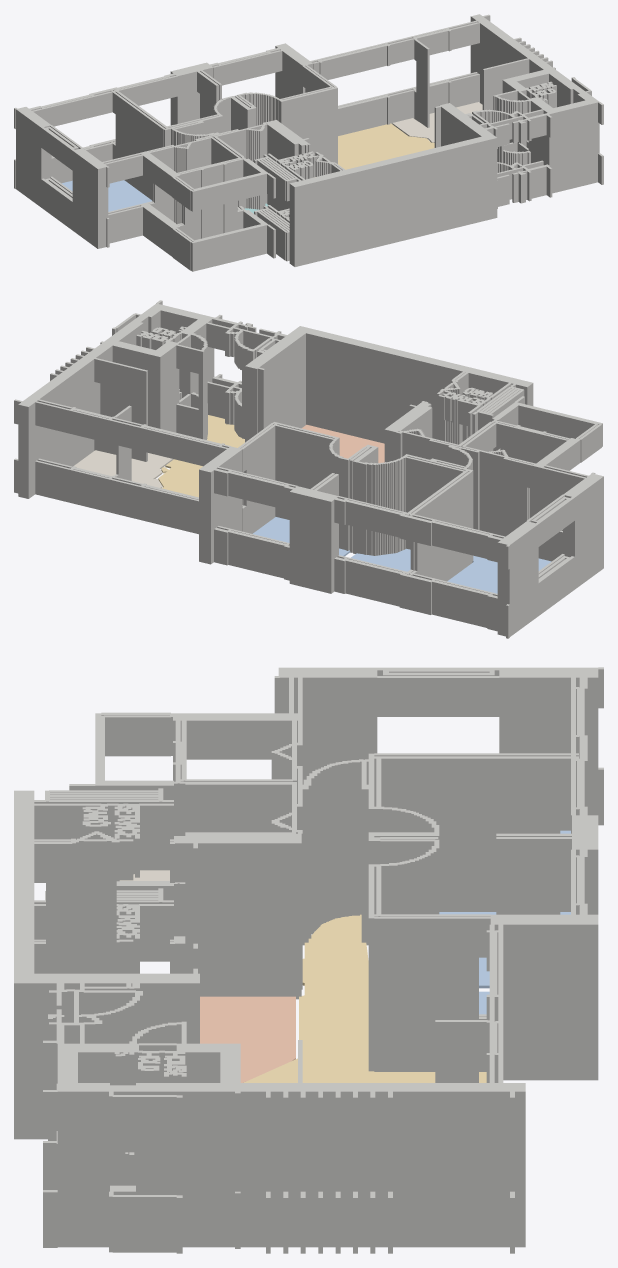
3 renders of one model, top to bottom at view 1: azimuth 30°, elevation 25°; view 2: azimuth 150°, elevation 25°; view 3: azimuth 270°, elevation 25°, orthographic. The views are drawn at different scales.
Parts seen in each view (by area): view 1: walls, room:living:4, room:bedroom:0, room:other:3; view 2: walls, room:living:4, room:other:3, room:bedroom:0, room:kitchen:7, room:bedroom:1, room:bedroom:2; view 3: walls, room:living:4, room:kitchen:7.
Part boxes in pixels (x1=…): walls: x1=14, y1=14, x2=603, y2=271; room:living:4: x1=315, y1=123, x2=434, y2=177; room:bedroom:0: x1=62, y1=180, x2=151, y2=211; room:other:3: x1=392, y1=102, x2=482, y2=142; walls: x1=14, y1=300, x2=603, y2=638; room:living:4: x1=158, y1=415, x2=244, y2=497; room:other:3: x1=74, y1=450, x2=173, y2=488; room:bedroom:0: x1=447, y1=555, x2=551, y2=593; room:kitchen:7: x1=301, y1=424, x2=384, y2=462; room:bedroom:1: x1=351, y1=548, x2=410, y2=571; room:bedroom:2: x1=253, y1=517, x2=350, y2=556; walls: x1=14, y1=667, x2=603, y2=1253; room:living:4: x1=243, y1=914, x2=486, y2=1082; room:kitchen:7: x1=200, y1=996, x2=295, y2=1082.
Bounding box in the file's own units: 16.57 × 2.8 × 9.6.
